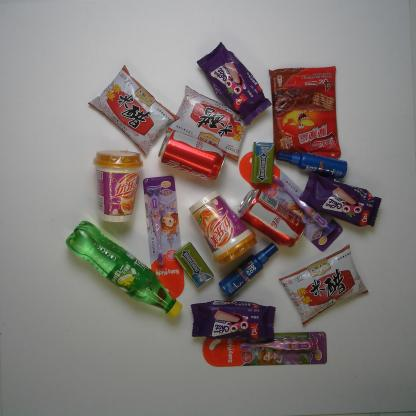Dessert: (266, 63, 343, 163), (194, 40, 273, 129), (297, 172, 384, 230), (189, 297, 278, 344)
Drink: (64, 219, 183, 321), (237, 188, 308, 248), (156, 126, 229, 184)
Gum: (174, 241, 214, 288), (249, 140, 276, 184)
Instant Drink: (188, 189, 258, 269), (90, 147, 144, 224)
Personal Hygiene: (238, 150, 345, 254), (143, 174, 185, 303), (202, 330, 330, 369), (217, 239, 279, 298), (274, 148, 349, 180)
Seasoner: (86, 64, 182, 156), (277, 242, 370, 328), (164, 84, 256, 164)
